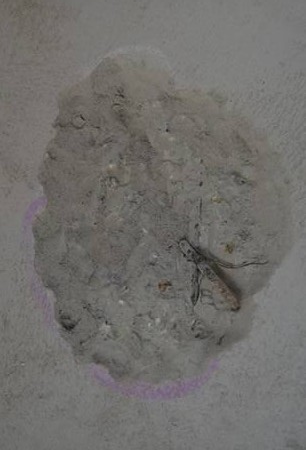Exposed reinforcement: (178, 238, 240, 310)
Spalling: (30, 45, 299, 389)
